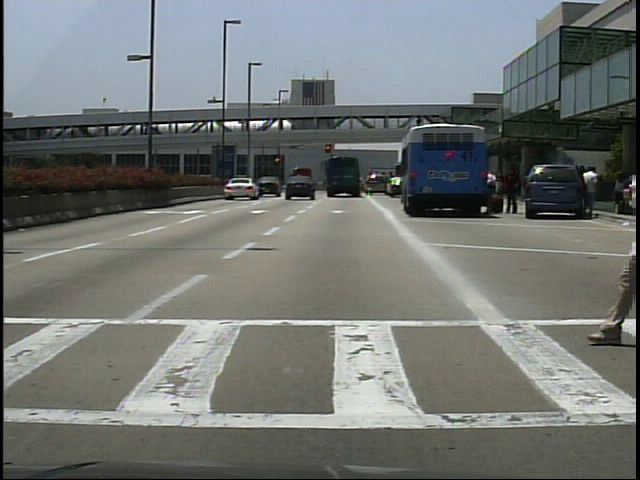person: (483, 163, 501, 215), (585, 162, 602, 217), (502, 165, 521, 214)
